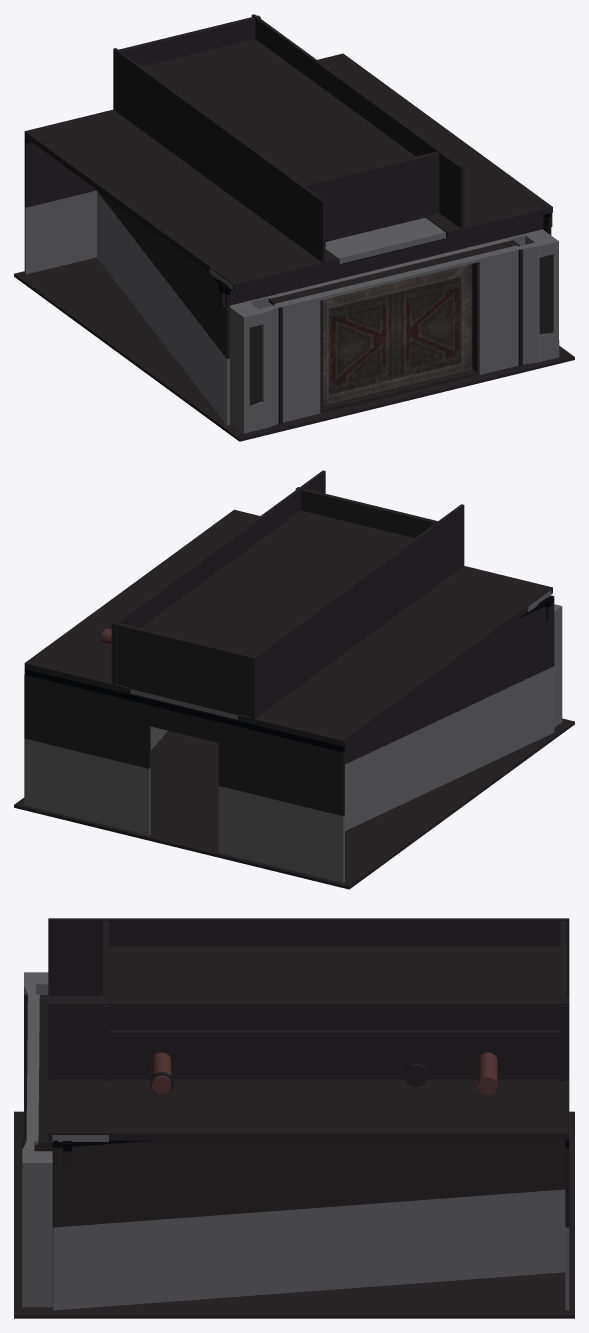
File: SCP Unknow Room A.obj
3 views of the same model, one above another, from view 1: azimuth 30°, elevation 25°; view 2: azimuth 150°, elevation 25°; view 3: azimuth 270°, elevation 25° (orthographic). The views are drawn at different scales.
Parts seen in each view (by area): view 1: Part27, Part16, Part22, Part15, Part29, Part19, Doormain6, Doormain2, Part26, Part17, FrameSide13, Part30 (+21 smaller); view 2: Part27, Part16, Part15, Part29, Part22, Part30, Part3, Part9, Part6, Part7, Part8, Part19 (+5 smaller); view 3: Part34, Part17, Part33, Part19, Part16, Part15, Part22, FrameSide18, FrameSide28, FrameBottom22, FrameTop2, Part3 (+5 smaller).
Boxes of the visible parts, x1,y1,x2,y2 form: Part27: (24,109,339,290); Part16: (142,39,439,203); Part22: (113,48,325,265); Part15: (14,257,574,441); Part29: (97,191,229,425); Part19: (317,53,552,238); Doormain6: (396,264,472,387); Doormain2: (323,282,396,405); Part26: (303,150,444,241); Part17: (251,14,464,231); FrameSide13: (239,295,320,431); Part30: (96,190,229,358); Part27: (238,566,552,746); Part16: (141,510,414,655); Part15: (14,718,574,889); Part29: (345,666,554,830); Part22: (251,504,464,721); Part30: (345,602,554,764); Part3: (111,621,253,717); Part9: (24,738,150,835); Part6: (218,786,344,882); Part7: (218,722,344,815); Part8: (24,674,150,768); Part19: (24,509,259,694); Part34: (52,1189,565,1310); Part17: (48,1002,569,1079); Part33: (52,1140,565,1227); Part19: (48,1079,569,1140); Part16: (103,946,560,1035); Part15: (14,1111,574,1318); Part22: (48,918,569,995); FrameSide18: (34,1159,52,1307); FrameSide28: (26,1116,34,1307); FrameBottom22: (38,995,52,1146); FrameTop2: (26,1021,39,1144); Part3: (560,921,566,1081).
Size of the model in its own units: 24.2 by 14.2 by 28.2.
Materials: 12 (5 with a texture image).
